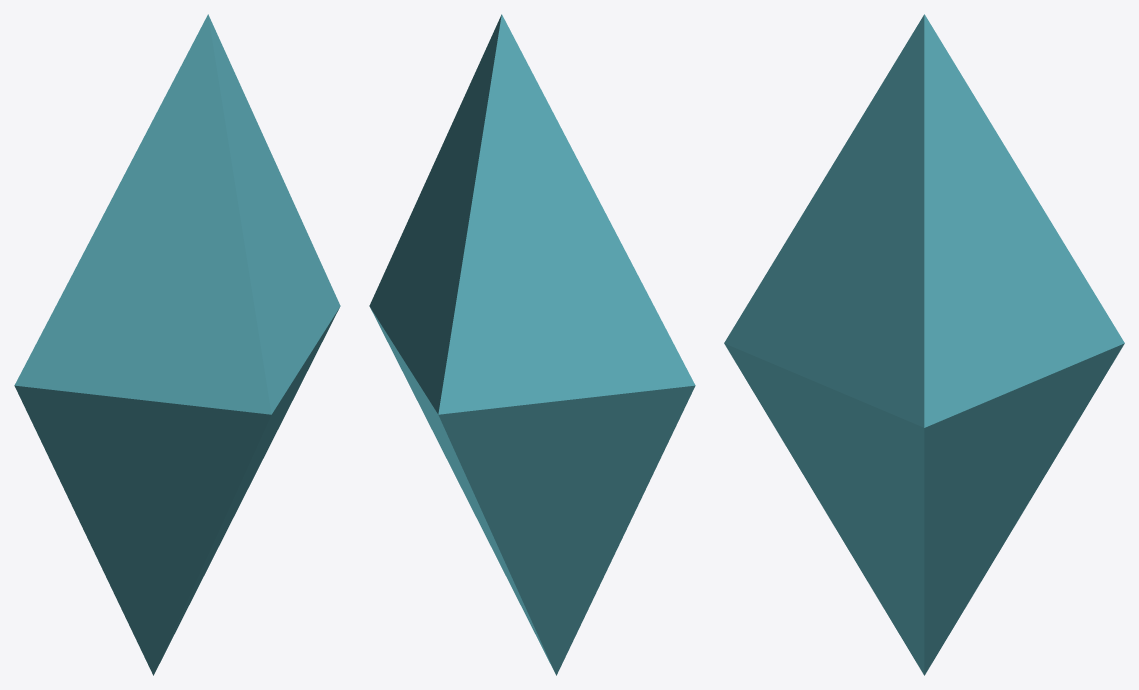
The model's file is ice.crystal-low.glb.
The picture shows the model from 3 angles, left to right: view 1: azimuth 30°, elevation 25°; view 2: azimuth 150°, elevation 25°; view 3: azimuth 270°, elevation 25°; orthographic projection. The views are drawn at different scales.
Visible parts, largest first — view 1: ice.crystal; view 2: ice.crystal; view 3: ice.crystal.
Part boxes in pixels (left/top/right/bottom): ice.crystal: left=14, top=14, right=340, bottom=675; ice.crystal: left=369, top=14, right=695, bottom=675; ice.crystal: left=724, top=14, right=1124, bottom=675.
Bounding box in the file's own units: 0.34 × 0.646 × 0.34.
